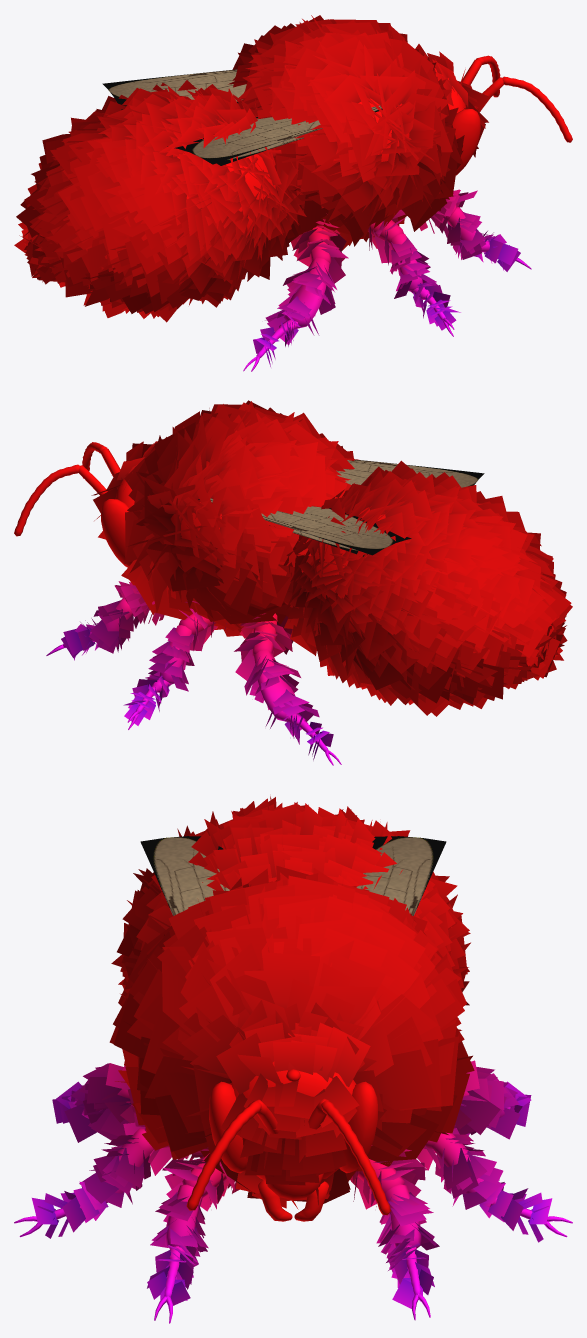
Rendered from SM_Bumblebee_Landed_LOD0.fbx.
3 renders of one model, top to bottom at view 1: azimuth 30°, elevation 25°; view 2: azimuth 150°, elevation 25°; view 3: azimuth 270°, elevation 25°, orthographic. The views are drawn at different scales.
Parts seen in each view (by area): view 1: SM_Bumblebee_Landed_LOD0; view 2: SM_Bumblebee_Landed_LOD0; view 3: SM_Bumblebee_Landed_LOD0.
Boxes of the visible parts, left/top/right/bottom form: SM_Bumblebee_Landed_LOD0: left=14, top=15, right=572, bottom=371; SM_Bumblebee_Landed_LOD0: left=14, top=400, right=572, bottom=765; SM_Bumblebee_Landed_LOD0: left=14, top=796, right=572, bottom=1323.
Bounding box in the file's own units: 3.19 × 1.49 × 2.19.
